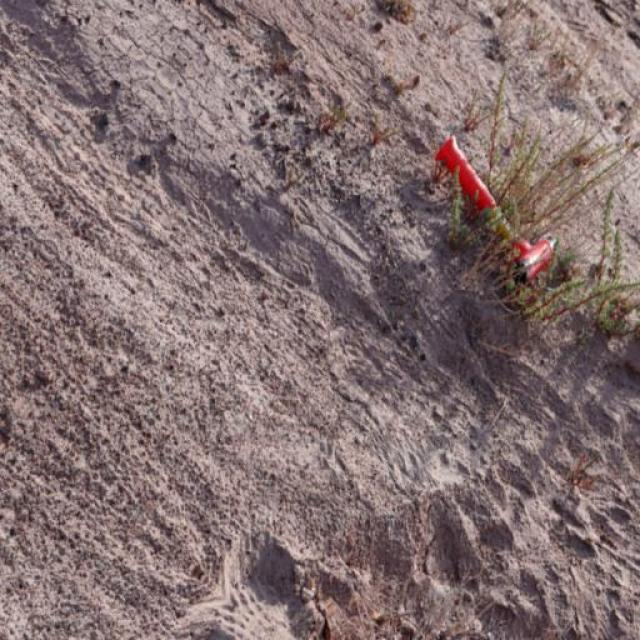mallet: (435, 133, 560, 285)
